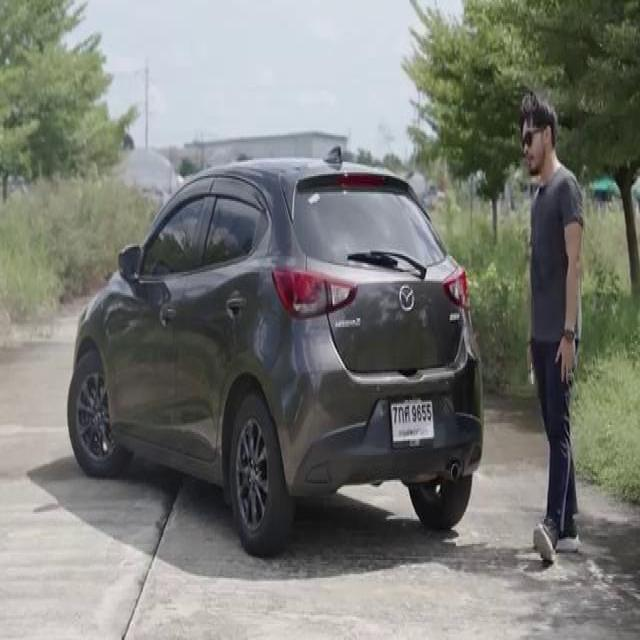Hatchback: (67, 148, 482, 555)
